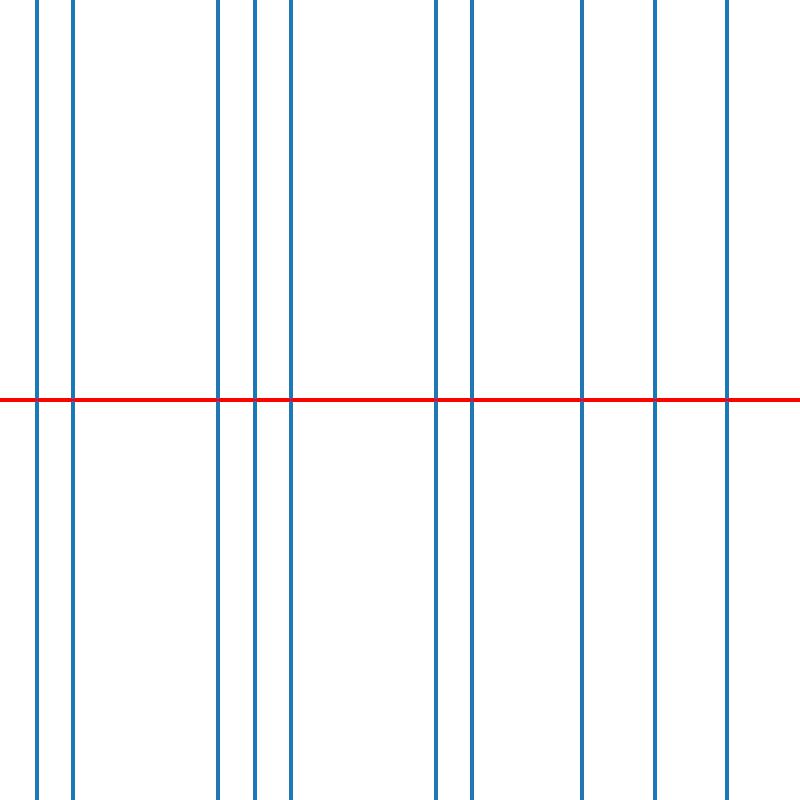root: (650, 396, 658, 404), (250, 396, 258, 404), (432, 396, 440, 404), (32, 396, 40, 404), (69, 396, 76, 404), (287, 396, 294, 404), (469, 396, 476, 404), (723, 396, 730, 404), (578, 396, 585, 404), (214, 396, 221, 404)
